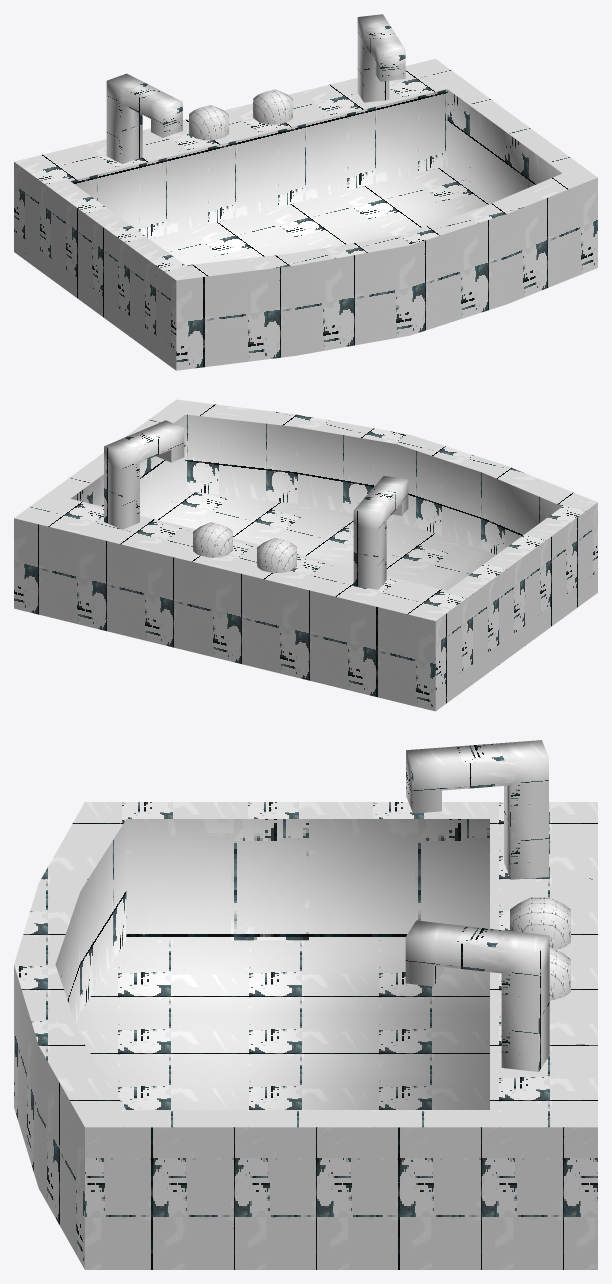
File: KitchenSink.FBX
The picture shows the model from 3 angles, top to bottom: view 1: azimuth 30°, elevation 25°; view 2: azimuth 150°, elevation 25°; view 3: azimuth 270°, elevation 25°; orthographic projection. The views are drawn at different scales.
Visible parts, largest first — view 1: KitchenSink; view 2: KitchenSink; view 3: KitchenSink.
Part boxes in pixels (x1,y1,x2,y2): KitchenSink: (14,14,597,370); KitchenSink: (14,399,597,711); KitchenSink: (14,740,597,1269).
Size of the model in its own units: 1.92 by 1.46 by 0.7238.
Materials: 1 (1 with a texture image).
